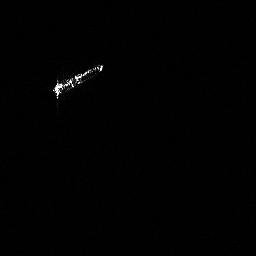ship: (48, 60, 106, 104)
